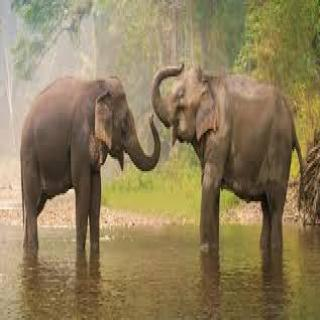Elephant: (153, 61, 306, 260), (17, 74, 163, 270)
